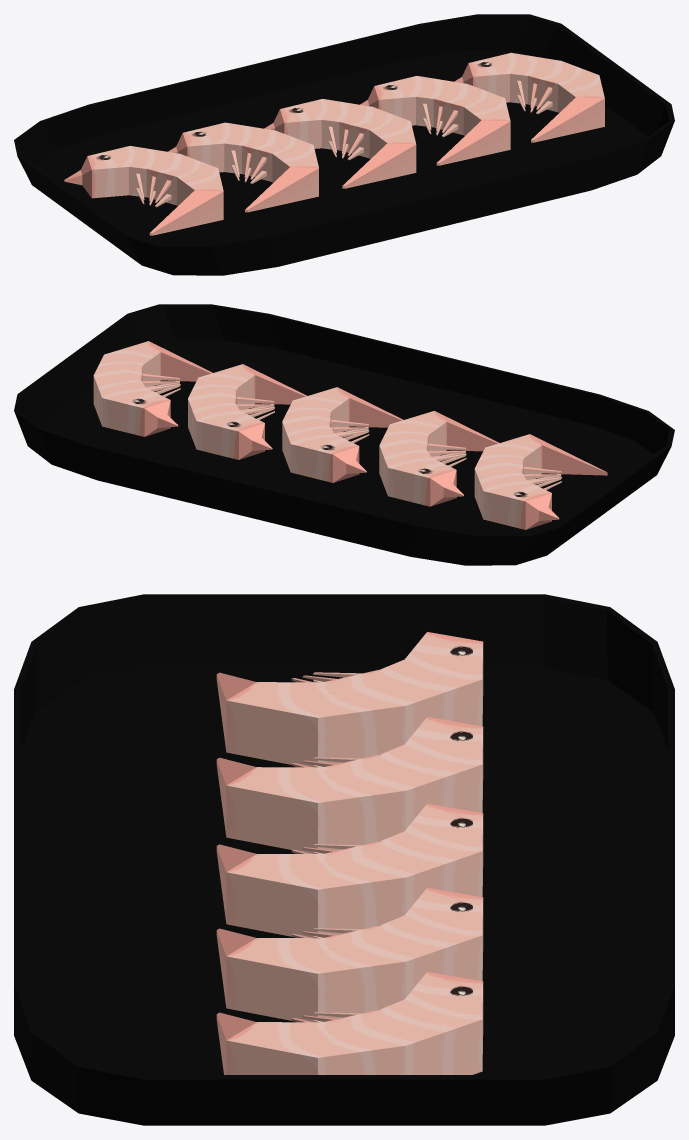
Rendered from Collectible Item.fbx_Prawn.fbx.
The picture shows the model from 3 angles, top to bottom: view 1: azimuth 30°, elevation 25°; view 2: azimuth 150°, elevation 25°; view 3: azimuth 270°, elevation 25°; orthographic projection. The views are drawn at different scales.
Parts seen in each view (by area): view 1: Prawn Tray; view 2: Prawn Tray; view 3: Prawn Tray.
Boxes of the visible parts, <box> form: Prawn Tray: <box>14,14,674,275</box>; Prawn Tray: <box>14,304,674,565</box>; Prawn Tray: <box>14,594,674,1125</box>.
Size of the model in its own units: 2.9 by 0.1638 by 1.67.
Materials: 2 (2 with a texture image).
